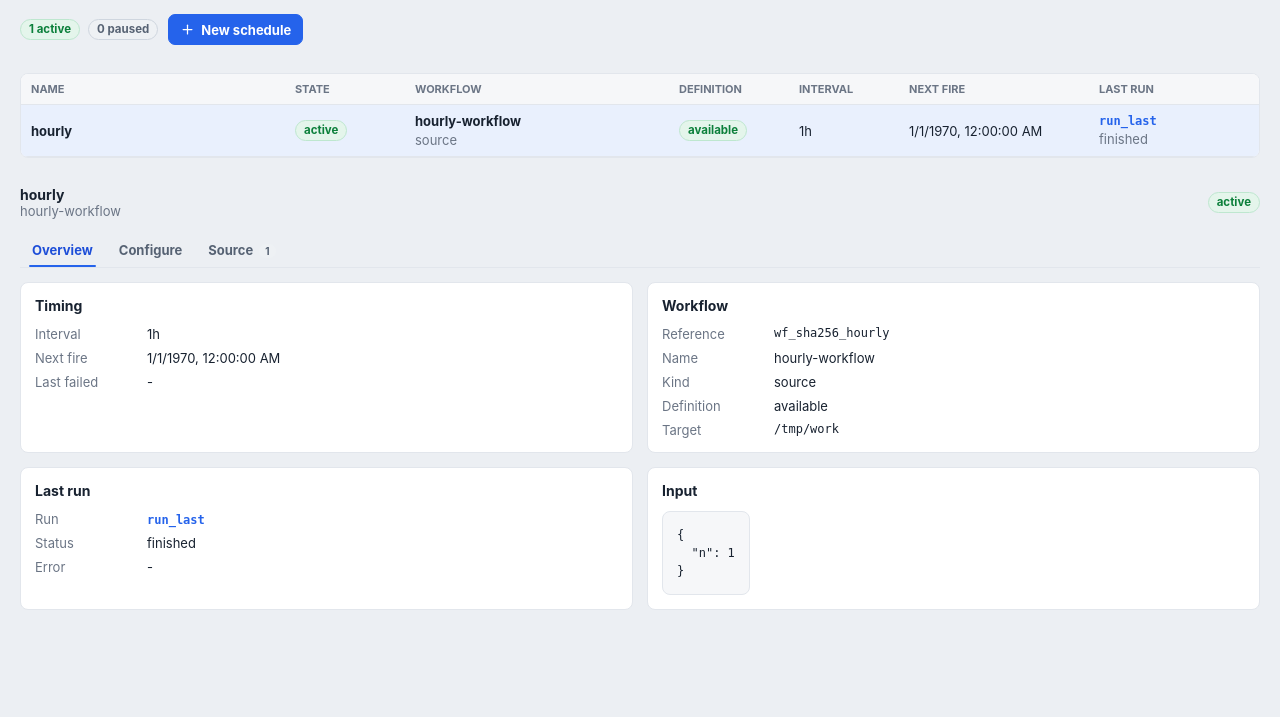
it: SchedulesScreen › lists schedules and exposes management and source views
expect the text "hourly" is shown: met, box [31,122,72,138]
What coordinates should you click on to do the following:
click the tab "Configure"
I would click on:
 (151, 250)
Its box is [107,233,194,267].
(page scrolled)
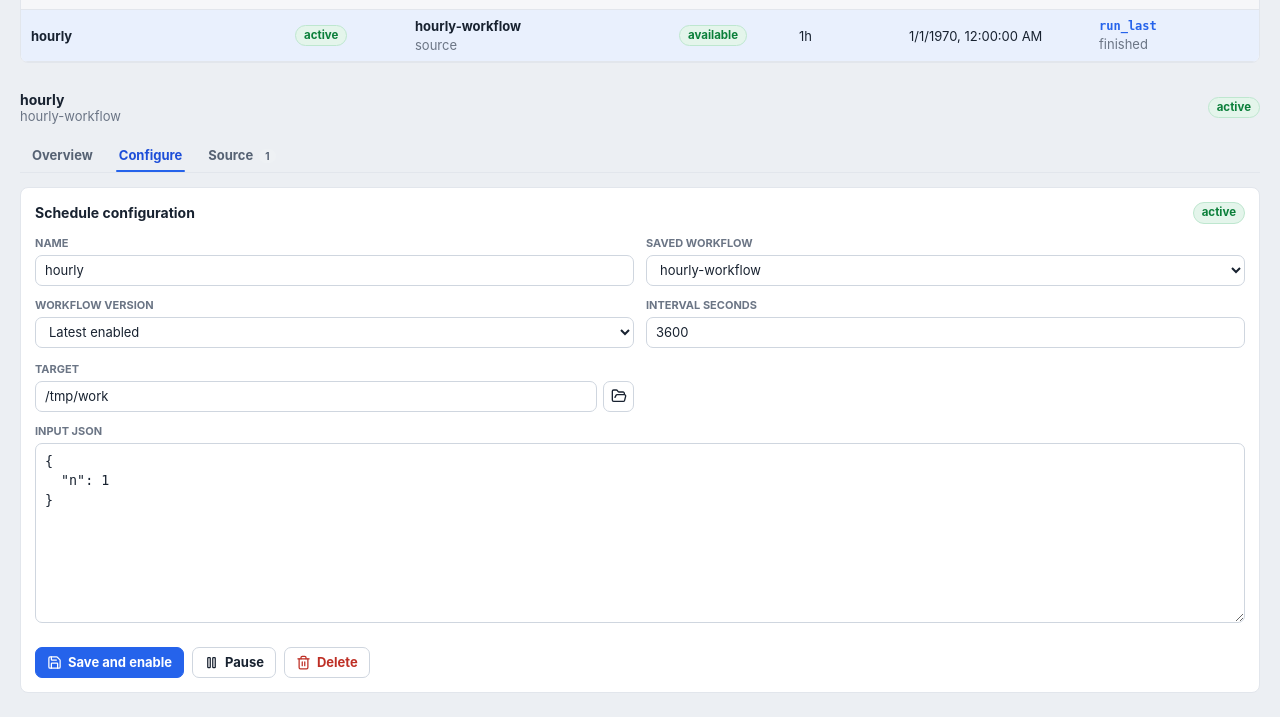
expect the button "Save and enable" is shown: met, box [35,646,184,678]
expect the button "Pause" is shown: met
What coordinates should you click on to do the following:
click the button "Pause"
I would click on:
 (234, 662)
Its box is [192,646,276,678].
(page scrolled)
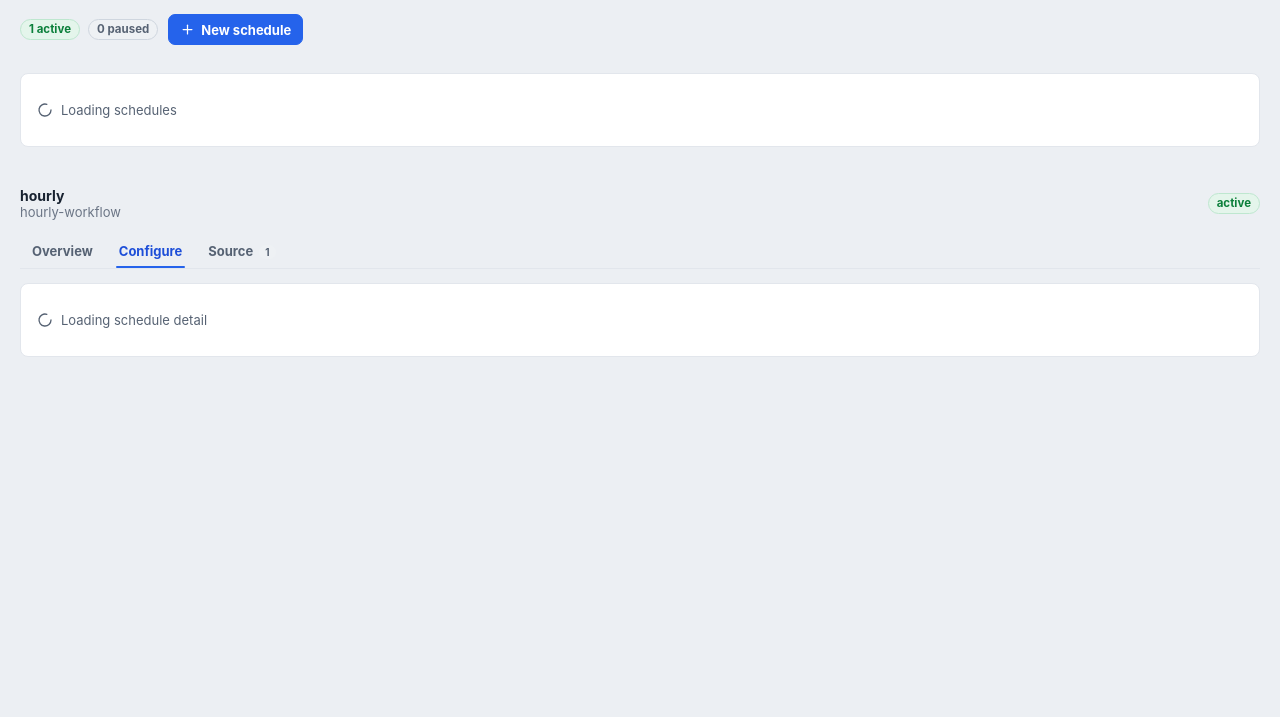
What coordinates should you click on to do the following:
click the tab "Source1"
I would click on:
 (242, 251)
Its box is [196,234,288,268].
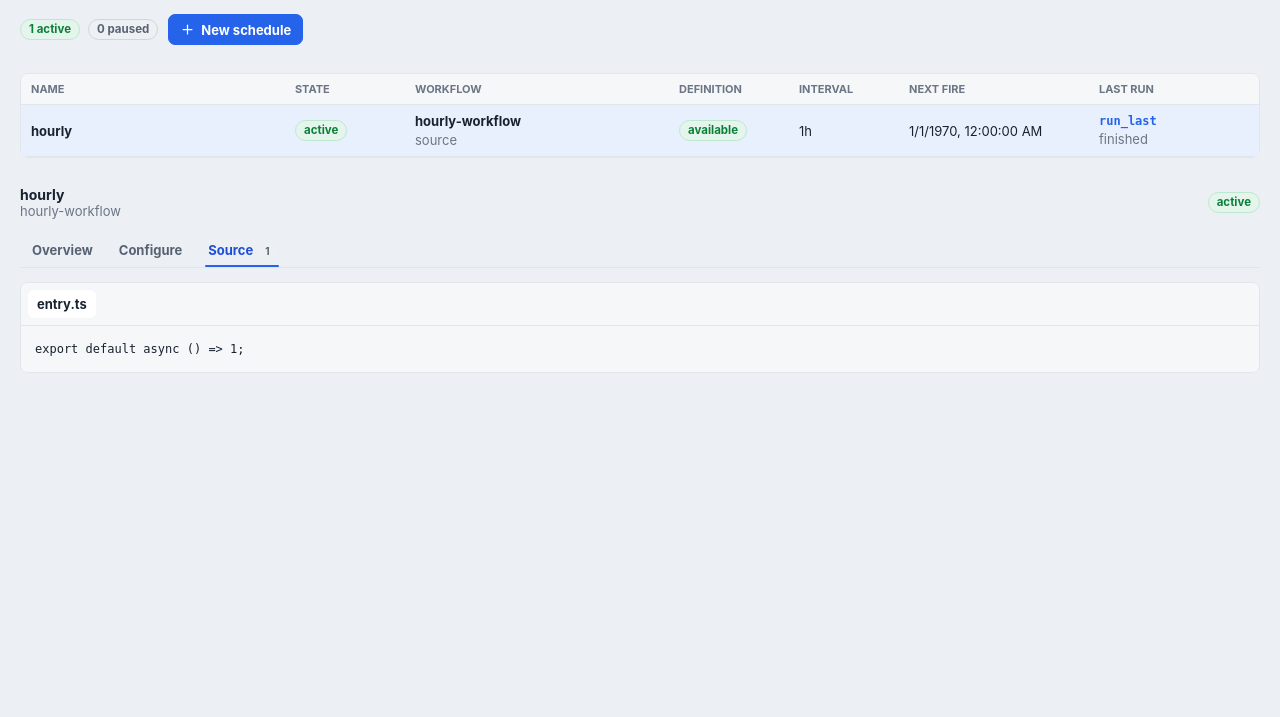
expect the text "export default async" is shown: met, box [35,342,244,356]
